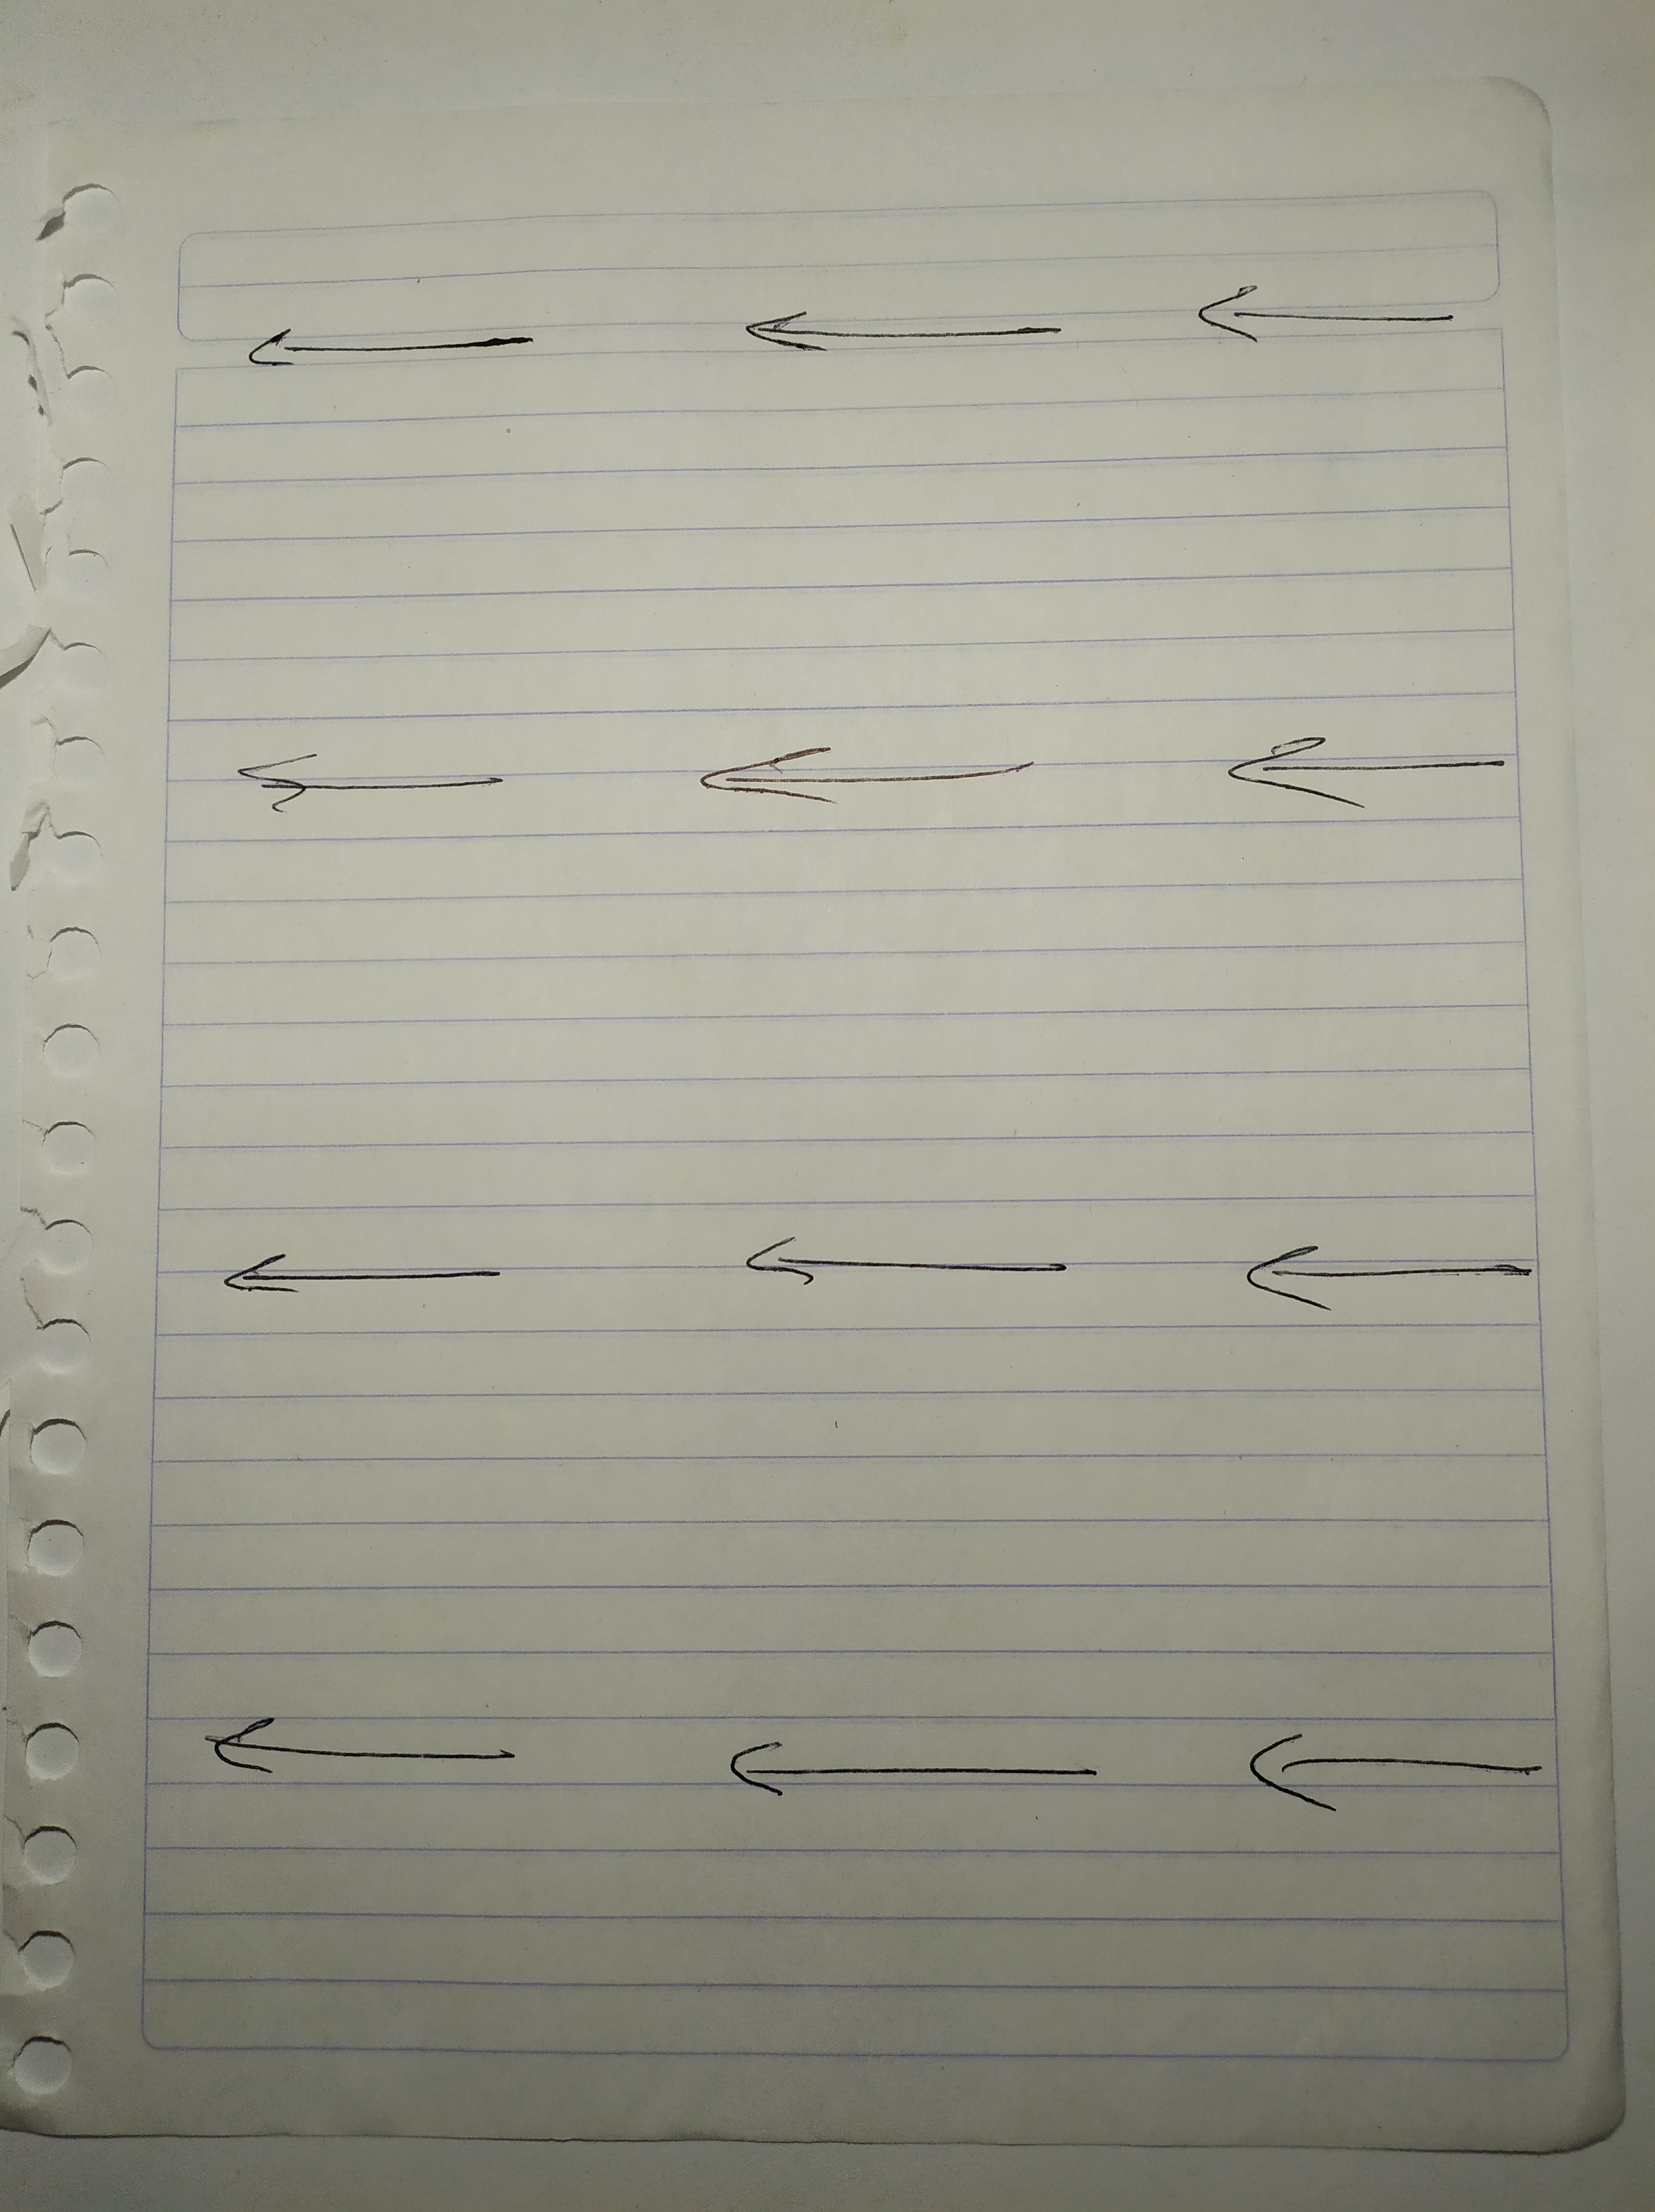arrow_line_left: (708, 1209, 1113, 1324), (708, 1717, 1133, 1819), (1217, 1717, 1577, 1830), (193, 1703, 588, 1800), (1191, 726, 1544, 832), (673, 733, 1064, 829), (198, 1230, 565, 1329), (207, 730, 555, 832), (1203, 1230, 1556, 1321), (713, 299, 1090, 374), (1166, 278, 1486, 361), (224, 306, 555, 381)
